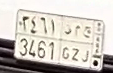1: (49, 17, 57, 62)
3: (19, 13, 30, 58)
4: (28, 14, 38, 60)
6: (37, 16, 48, 60)
G: (59, 22, 73, 63)
J: (81, 24, 92, 65)
Z: (72, 23, 82, 63)
